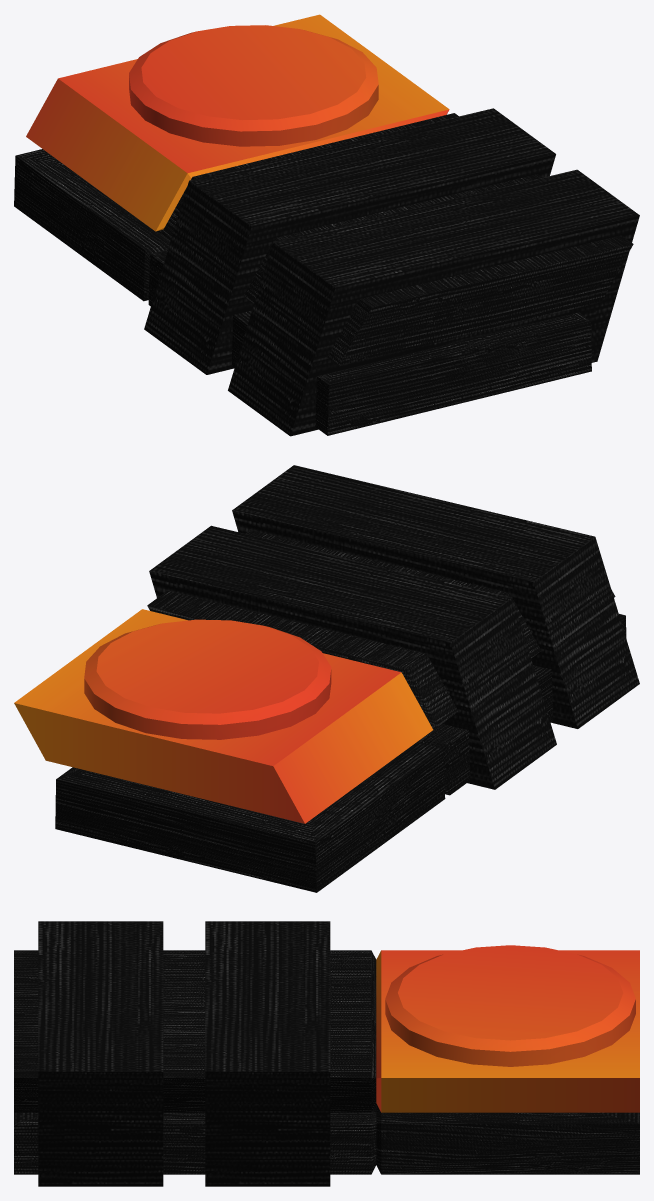
The model's file is console_1.fbx.
3 views of the same model, one above another, from view 1: azimuth 30°, elevation 25°; view 2: azimuth 150°, elevation 25°; view 3: azimuth 270°, elevation 25° (orthographic).
Parts seen in each view (by area): view 1: console_1; view 2: console_1; view 3: console_1.
Boxes of the visible parts, x1=… form: console_1: x1=14, y1=14, x2=639, y2=436; console_1: x1=14, y1=465, x2=639, y2=892; console_1: x1=14, y1=921, x2=639, y2=1186.
Bounding box in the file's own units: 0.4821 × 0.1869 × 0.7491.
